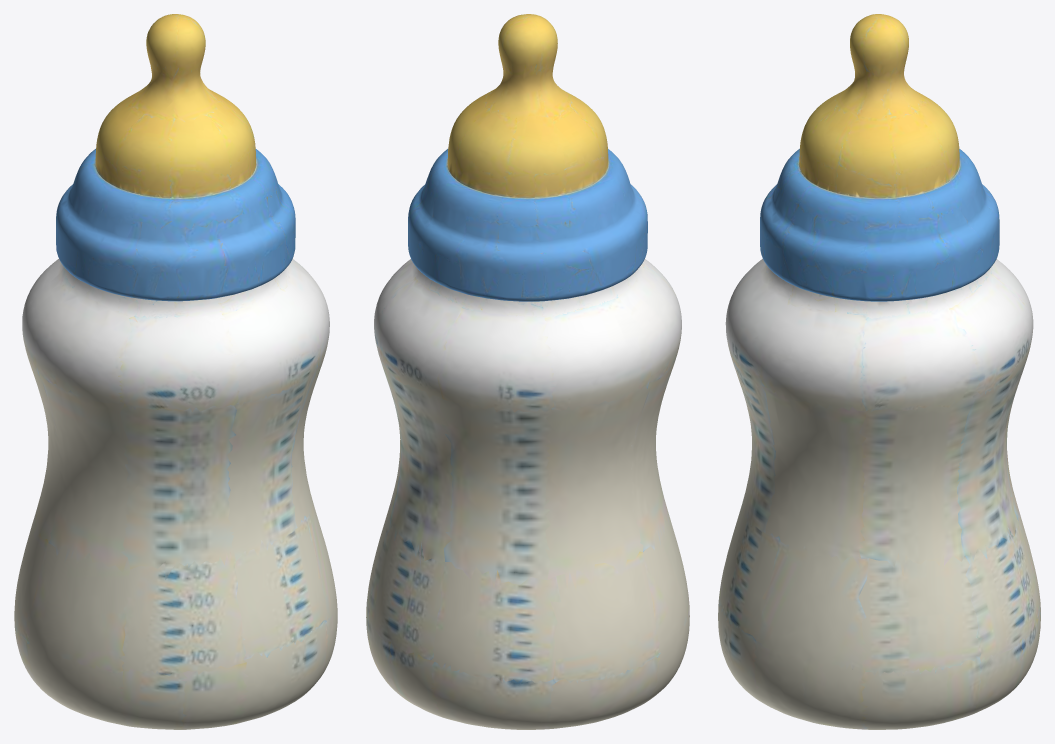
3 renders of one model, left to right at view 1: azimuth 30°, elevation 25°; view 2: azimuth 150°, elevation 25°; view 3: azimuth 270°, elevation 25°, orthographic.
Size of the model in its own units: 0.8442 by 1.9 by 0.8438.
Materials: 1 (1 with a texture image).
